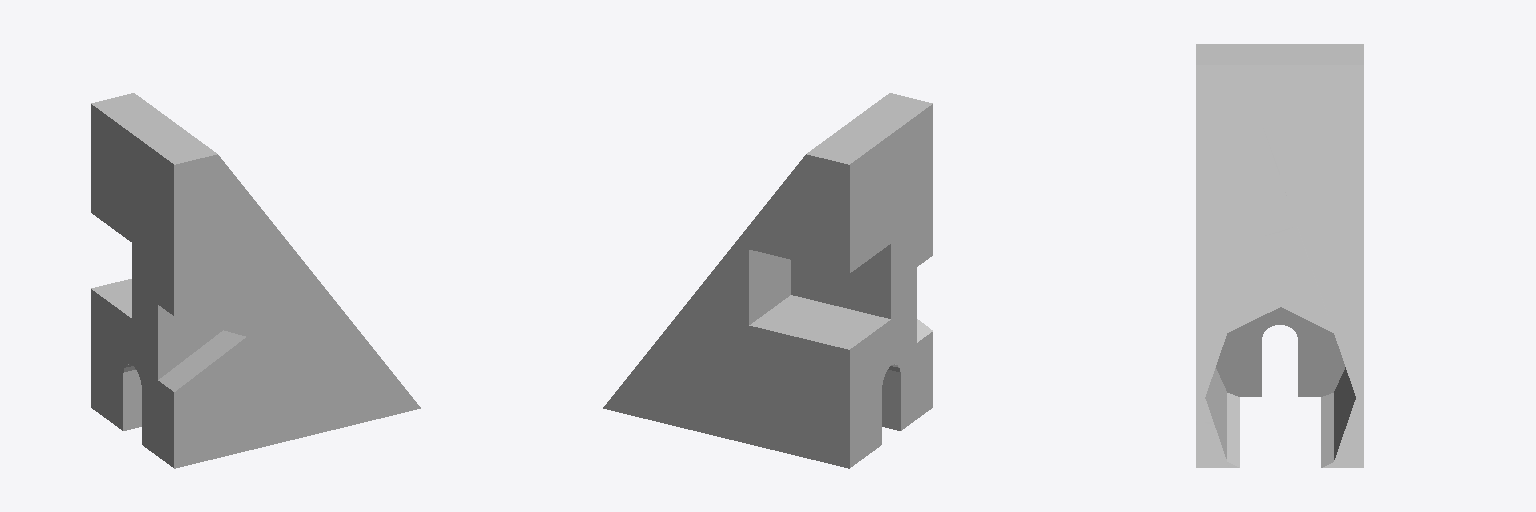
File: Marqueur-m.obj
3 views of the same model, side by side, from view 1: azimuth 30°, elevation 25°; view 2: azimuth 150°, elevation 25°; view 3: azimuth 270°, elevation 25° (orthographic).
Size of the model in its own units: 0.017 by 0.02 by 0.01.